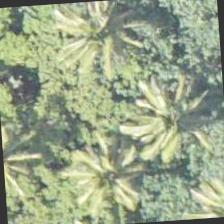Kelapa_Sawit: (123, 77, 219, 173), (62, 122, 158, 218), (39, 0, 136, 92)
